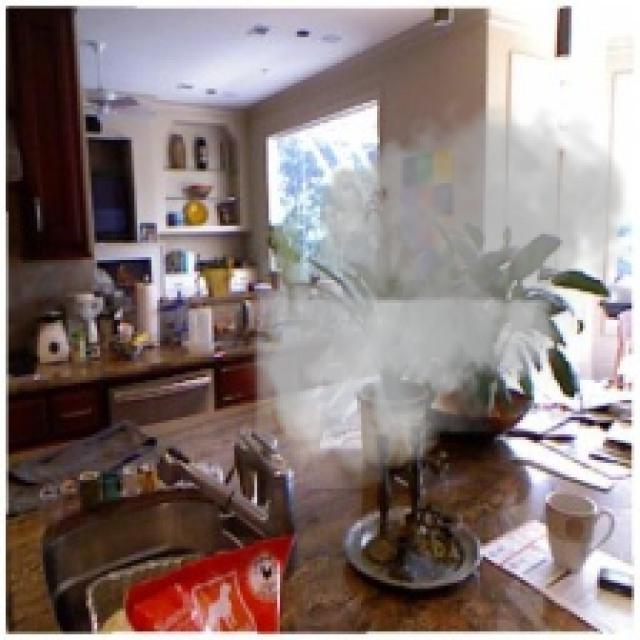smoke: (240, 89, 634, 488)
